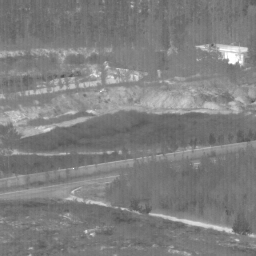aircraft: (100, 90, 102, 92)
